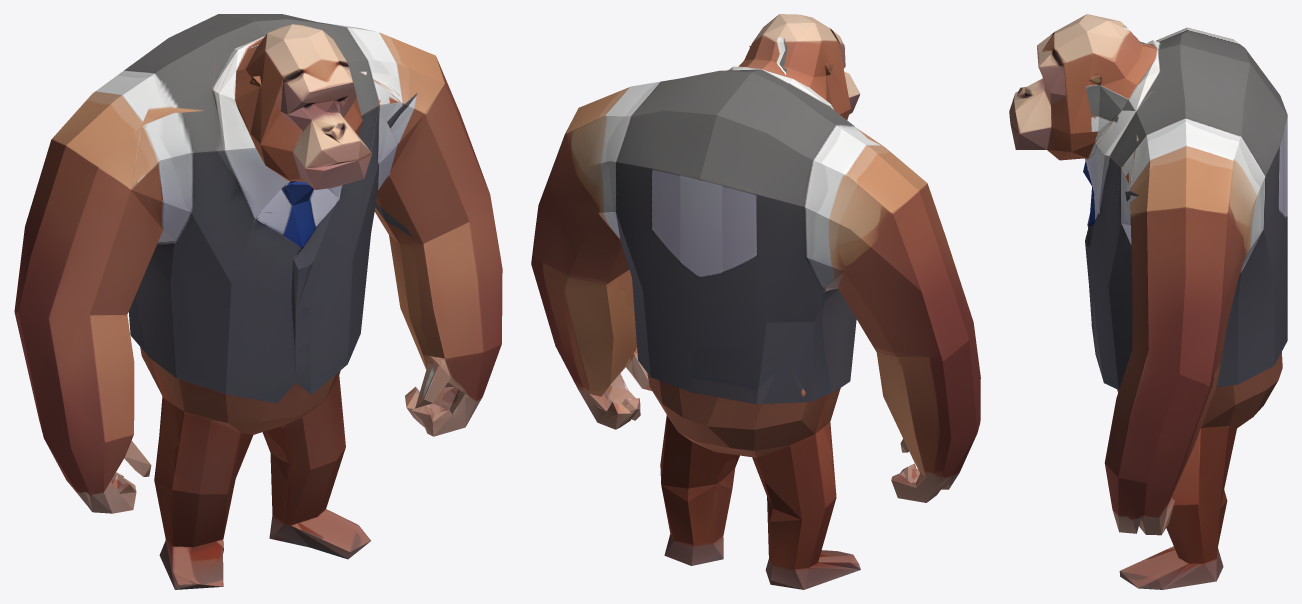
Rendered from base_basic_pbr.fbx.
3 renders of one model, left to right at view 1: azimuth 30°, elevation 25°; view 2: azimuth 150°, elevation 25°; view 3: azimuth 270°, elevation 25°, orthographic. The views are drawn at different scales.
Parts seen in each view (by area): view 1: model; view 2: model; view 3: model.
Part boxes in pixels (box(x1,y1,x2,y2)): model: box(14, 14, 502, 589); model: box(531, 14, 980, 589); model: box(1009, 14, 1287, 589).
Bounding box in the file's own units: 158 × 177 × 84.96.
1 material, 1 textured.
